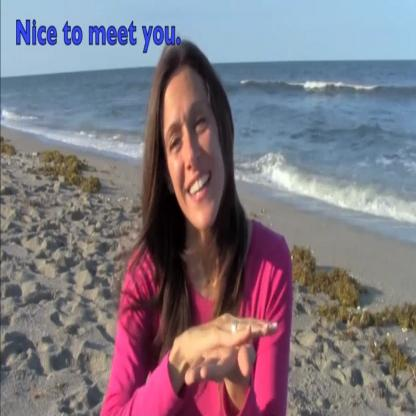NiceToMeetYou: (175, 294, 278, 400)
